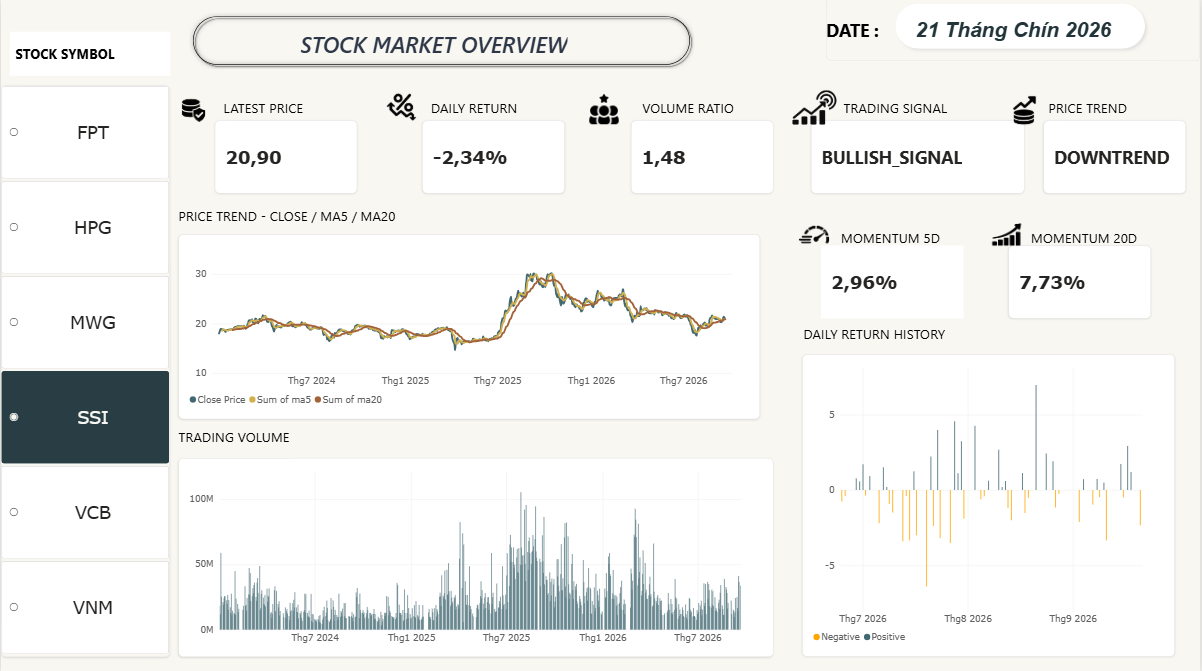

The dashboard page shown, as its layout file describes it:
{"tool":"powerbi","page":{"name":"Market overview","canvas":[1920,1080],"ordinal":0},"visuals":[{"type":"shape","box":[300,22.5,809.4,92],"z":0,"group":"g1"},{"type":"cardVisual","fields":{"Data":["public vw_stock_signals.Latest Price"]},"box":[341.7,196.7,228.3,116.7],"z":0},{"type":"cardVisual","fields":{"Data":["public dim_date.Latest Daily Return %"]},"box":[673.3,196.7,228.3,116.7],"z":1000},{"type":"shape","box":[339.3,48.8,705.8,50],"z":2000,"group":"g1"},{"type":"cardVisual","fields":{"Data":["public vw_stock_signals.Latest Volume Ratio"]},"box":[1008.3,196.7,228.3,116.7],"z":2000},{"type":"shape","box":[356.7,140,171.7,70],"z":3000},{"type":"shape","box":[688.3,140,193.3,70],"z":4000},{"type":"shape","box":[1025,140,256.7,70],"z":5000},{"type":"cardVisual","fields":{"Data":["Min(public vw_stock_signals.price_trend)"]},"box":[1668.3,196.7,228.3,116.7],"z":6000},{"type":"cardVisual","fields":{"Data":["public vw_stock_signals.Latest Trading Signal"]},"box":[1295,196.7,341.7,116.7],"z":7000},{"type":"shape","box":[1675,140,221.7,70],"z":8000},{"type":"shape","box":[1348.3,140,256.7,70],"z":9000},{"type":"shape","box":[1422.5,0,417.5,90],"z":10000},{"type":"card","fields":{"Values":["Max(public dim_date.full_date)"]},"box":[1320,0,600,100],"z":11000},{"type":"image","box":[265.8,148.9,81.1,62.1],"z":12000},{"type":"image","box":[596.7,136.7,91.7,73.3],"z":13000},{"type":"image","box":[937.7,153.8,53.8,47.7],"z":14000},{"type":"image","box":[1598.3,133.3,76.7,91.7],"z":15000},{"type":"lineChart","fields":{"Category":["public vw_stock_signals.full_date"],"Y":["public vw_stock_signals.Close Price","Sum(public vw_stock_signals.ma5)","Sum(public vw_stock_signals.ma20)"]},"box":[284,378,930,296],"z":16000},{"type":"shape","box":[1343.3,348.3,180,68.3],"z":17000},{"type":"cardVisual","fields":{"Data":["public vw_stock_signals.Latest Momentum 5D %"]},"box":[1312,396,228.3,116.7],"z":18000},{"type":"cardVisual","fields":{"Data":["public vw_stock_signals.Latest Momentum 20D %"]},"box":[1612,396,228.3,116.7],"z":19000},{"type":"shape","box":[1648.3,348.3,180,68.3],"z":20000},{"type":"clusteredColumnChart","fields":{"Category":["public vw_stock_signals.full_date"],"Y":["public vw_stock_signals.Trading Volume"]},"box":[284,736,952,318],"z":21000},{"type":"shape","box":[284,312,420,70],"z":22000},{"type":"shape","box":[284,666,256.7,70],"z":23000},{"type":"image","box":[1250,123.3,98.3,101.7],"z":24000},{"type":"image","box":[1265,348.3,68.8,60],"z":25000},{"type":"image","box":[1574,348,68.8,60],"z":26000},{"type":"advancedSlicerVisual","fields":{"Values":["public dim_stock.symbol"]},"box":[0,140,270,914],"z":27000},{"type":"shape","box":[13.3,53.3,256.7,70],"z":28000},{"type":"shape","box":[1320,15,88.3,70],"z":29000},{"type":"clusteredColumnChart","fields":{"Category":["public vw_stock_signals.full_date"],"Series":["public vw_stock_signals.Return Direction"],"Y":["Sum(public vw_stock_signals.daily_return_pct)"]},"box":[1282,570,596,484],"z":30000},{"type":"shape","box":[1284,502,278,68],"z":31000},{"type":"group","id":"g1","title":"Group 1","box":[300,22.5,810,92.5],"z":32000}]}

Visuals, with their boxes in screenshot pixels (x1, y1, x2, y2), scaled from the page's 1920x1080 canvas onto the 1202x671 screenshot:
shape: [188, 14, 695, 71]
cardVisual - public vw_stock_signals.Latest Price: [214, 122, 357, 195]
cardVisual - public dim_date.Latest Daily Return %: [422, 122, 564, 195]
shape: [212, 30, 654, 61]
cardVisual - public vw_stock_signals.Latest Volume Ratio: [631, 122, 774, 195]
shape: [223, 87, 331, 130]
shape: [431, 87, 552, 130]
shape: [642, 87, 802, 130]
cardVisual - Min(public vw_stock_signals.price_trend): [1044, 122, 1187, 195]
cardVisual - public vw_stock_signals.Latest Trading Signal: [811, 122, 1025, 195]
shape: [1049, 87, 1187, 130]
shape: [844, 87, 1005, 130]
shape: [891, 0, 1152, 56]
card - Max(public dim_date.full_date): [826, 0, 1201, 62]
image: [166, 93, 217, 131]
image: [374, 85, 431, 130]
image: [587, 96, 621, 125]
image: [1001, 83, 1049, 140]
lineChart - public vw_stock_signals.full_date x public vw_stock_signals.Close Price: [178, 235, 760, 419]
shape: [841, 216, 954, 259]
cardVisual - public vw_stock_signals.Latest Momentum 5D %: [821, 246, 964, 319]
cardVisual - public vw_stock_signals.Latest Momentum 20D %: [1009, 246, 1152, 319]
shape: [1032, 216, 1145, 259]
clusteredColumnChart - public vw_stock_signals.full_date x public vw_stock_signals.Trading Volume: [178, 457, 774, 655]
shape: [178, 194, 441, 237]
shape: [178, 414, 339, 457]
image: [783, 77, 844, 140]
image: [792, 216, 835, 254]
image: [985, 216, 1028, 253]
advancedSlicerVisual - public dim_stock.symbol: [0, 87, 169, 655]
shape: [8, 33, 169, 77]
shape: [826, 9, 882, 53]
clusteredColumnChart - public vw_stock_signals.full_date x public vw_stock_signals.Return Direction: [803, 354, 1176, 655]
shape: [804, 312, 978, 354]
"Group 1" group: [188, 14, 695, 71]
